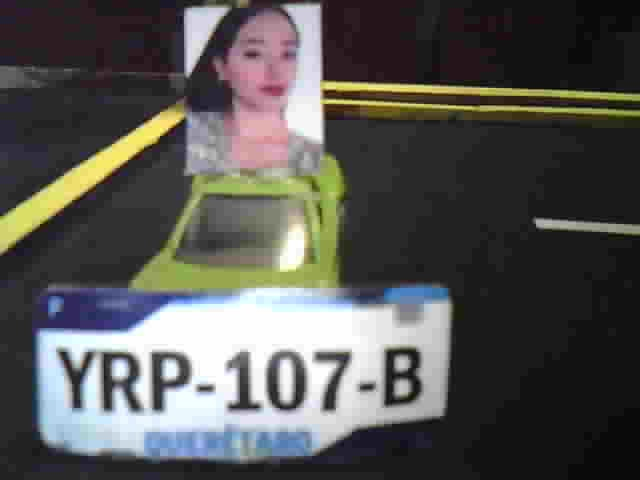PLACA: (28, 283, 452, 471)
ROSTRO: (184, 4, 326, 177)
